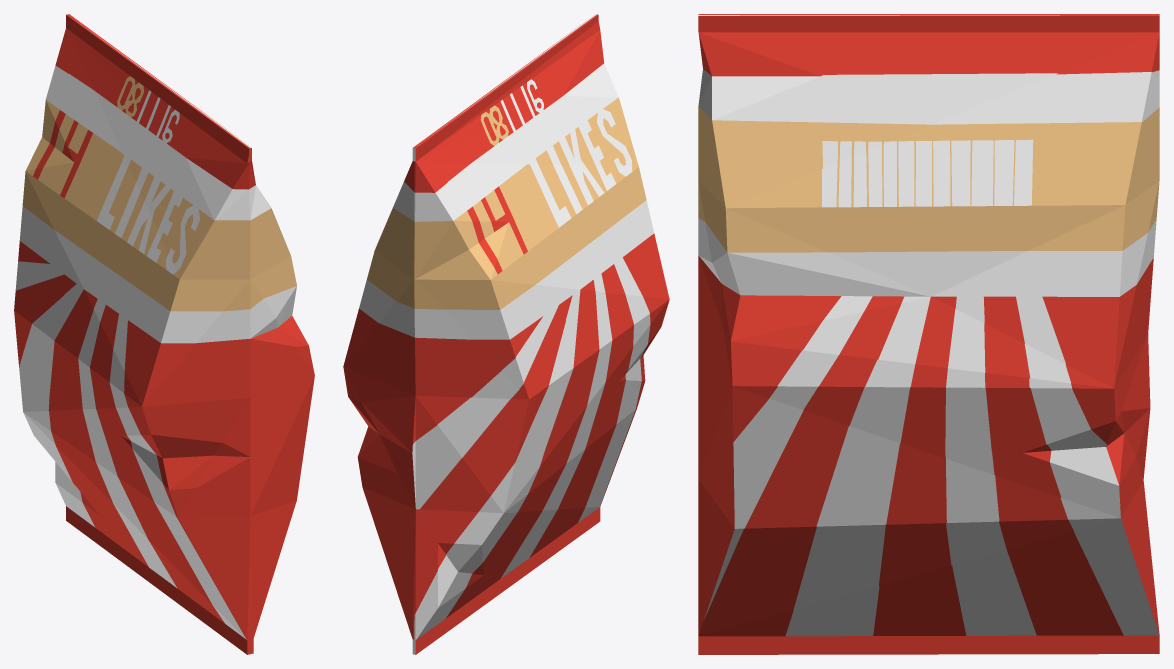
Rendered from Readysaltedcrisps.glb.
The picture shows the model from 3 angles, left to right: view 1: azimuth 30°, elevation 25°; view 2: azimuth 150°, elevation 25°; view 3: azimuth 270°, elevation 25°; orthographic projection. The views are drawn at different scales.
Parts seen in each view (by area): view 1: group478861069; view 2: group478861069; view 3: group478861069.
Part boxes in pixels (x1=…): group478861069: x1=14, y1=14, x2=314, y2=654; group478861069: x1=343, y1=14, x2=669, y2=654; group478861069: x1=698, y1=14, x2=1159, y2=654.
Bounding box in the file's own units: 0.8384 × 2.26 × 1.48.
